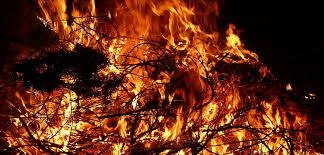fire: (25, 0, 278, 152)
